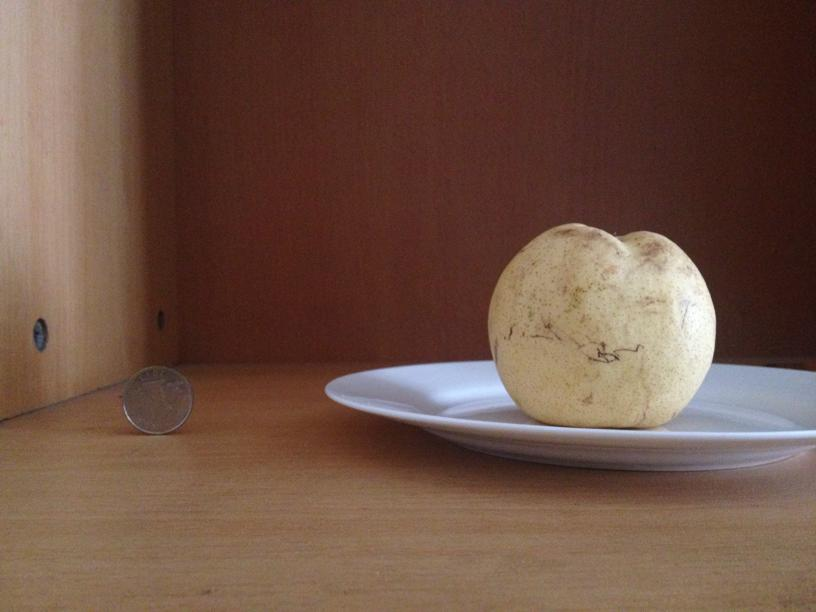coin: (123, 366, 192, 433)
pear: (481, 216, 717, 424)
